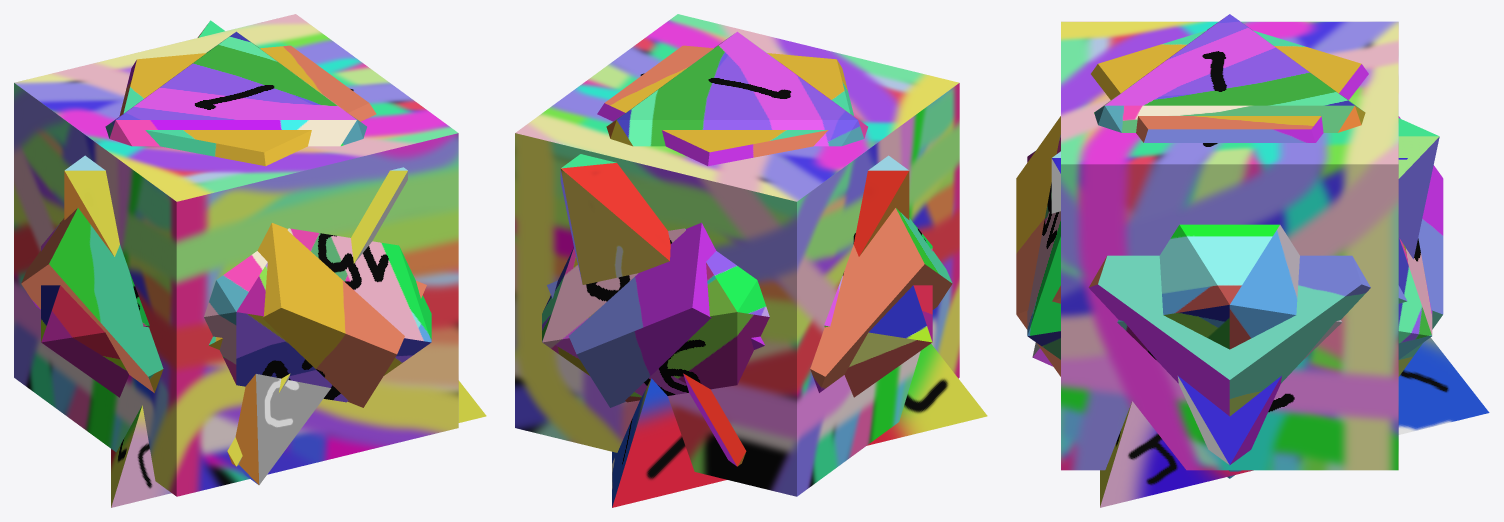
Rendered from dice.gltf.
3 views of the same model, side by side, from view 1: azimuth 30°, elevation 25°; view 2: azimuth 150°, elevation 25°; view 3: azimuth 270°, elevation 25° (orthographic). The views are drawn at different scales.
Visible parts, largest first — view 1: d6, d20, d12, d10, d8, d4; view 2: d6, d20, d12, d4, d10, d8; view 3: d6, d20, d12, d4, d8, d10.
Boxes of the visible parts, x1,y1,x2,y2 form: d6: [14, 14, 458, 496]; d20: [41, 31, 431, 402]; d12: [21, 45, 426, 407]; d10: [197, 20, 330, 484]; d8: [64, 155, 407, 466]; d4: [111, 380, 486, 507]; d6: [515, 14, 959, 496]; d20: [542, 31, 932, 402]; d12: [547, 45, 952, 407]; d4: [612, 344, 987, 507]; d10: [560, 154, 670, 284]; d8: [683, 155, 909, 466]; d6: [1061, 21, 1398, 470]; d20: [1027, 14, 1432, 478]; d12: [1016, 30, 1443, 416]; d4: [1100, 337, 1489, 507]; d8: [1051, 151, 1407, 464]; d10: [1032, 118, 1439, 366].
Bounding box in the file's own units: 2.08 × 1.68 × 2.1.
Materials: 6 (6 with a texture image).
